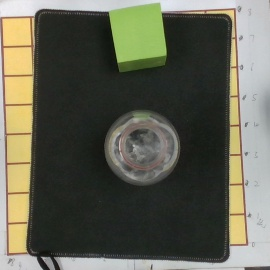bottle: (106, 109, 179, 186)
